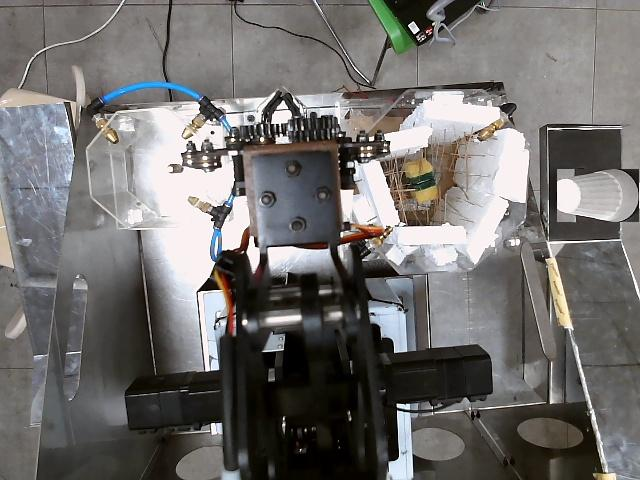cup: (557, 169, 639, 222)
